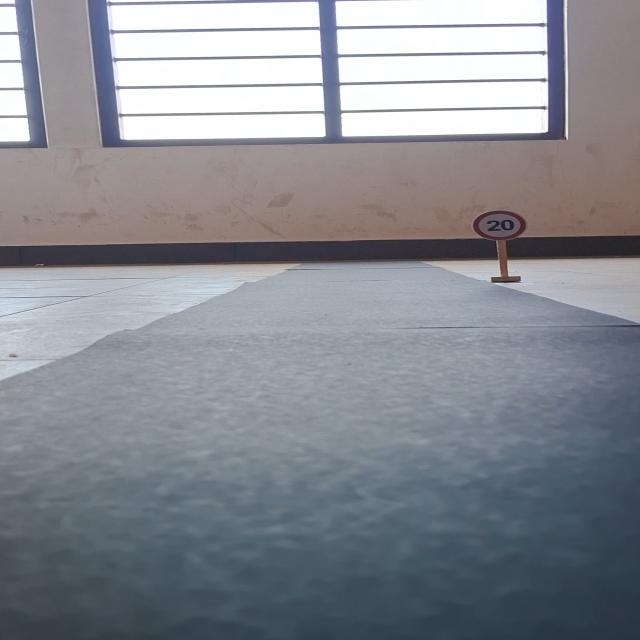Speed20: (468, 205, 529, 244)
